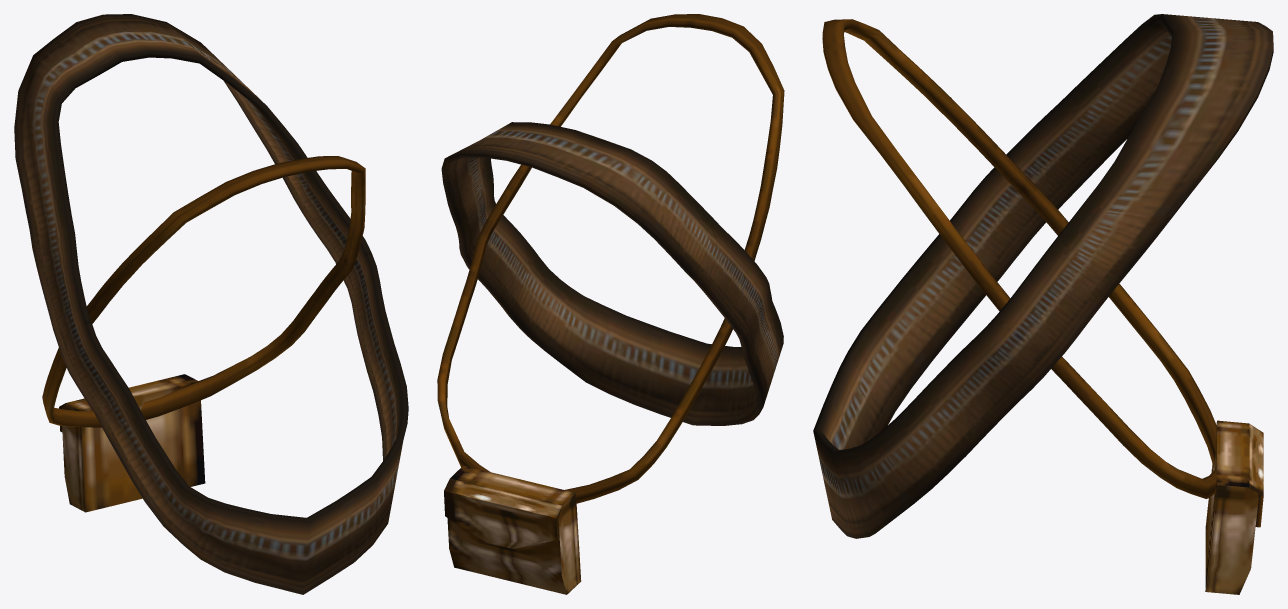
The model's file is 13901_Straps_No_Weight_Paint.fbx.
The picture shows the model from 3 angles, left to right: view 1: azimuth 30°, elevation 25°; view 2: azimuth 150°, elevation 25°; view 3: azimuth 270°, elevation 25°; orthographic projection. The views are drawn at different scales.
Visible parts, largest first — view 1: 13901_strap_left, 13901_strap_right, 13901_strap_right_bag; view 2: 13901_strap_left, 13901_strap_right_bag, 13901_strap_right; view 3: 13901_strap_left, 13901_strap_right, 13901_strap_right_bag.
Boxes of the visible parts, <box> form: 13901_strap_left: <box>14,14,408,594</box>; 13901_strap_right: <box>42,156,365,427</box>; 13901_strap_right_bag: <box>59,374,205,512</box>; 13901_strap_left: <box>441,122,783,425</box>; 13901_strap_right_bag: <box>444,465,581,594</box>; 13901_strap_right: <box>437,14,784,503</box>; 13901_strap_left: <box>813,14,1273,538</box>; 13901_strap_right: <box>822,19,1216,498</box>; 13901_strap_right_bag: <box>1205,420,1263,594</box>.
Bounding box in the file's own units: 1192 × 1825 × 1487.
1 material, 1 textured.
